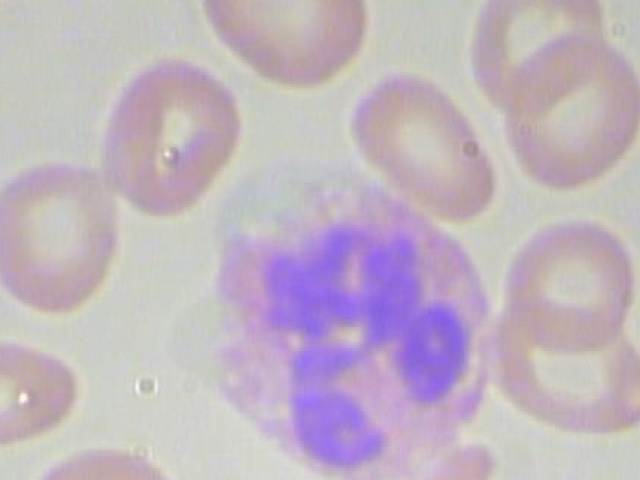RBC: (345, 59, 506, 226), (95, 45, 247, 220), (0, 152, 148, 328), (492, 26, 640, 193), (491, 212, 635, 358), (191, 0, 378, 95), (454, 0, 615, 110), (0, 329, 97, 454), (21, 441, 194, 480), (636, 243, 640, 391), (636, 84, 640, 232), (550, 479, 640, 480)
WBC: (182, 155, 515, 480)
